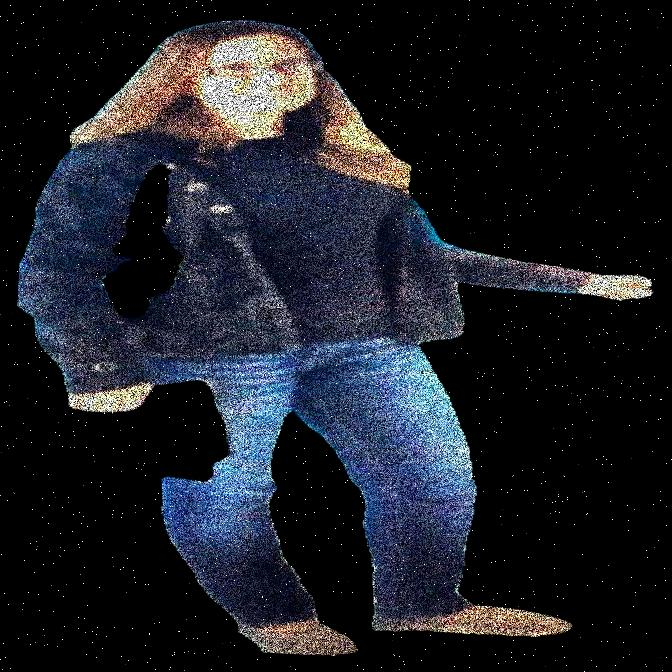Pessoa: (172, 0, 300, 671)
